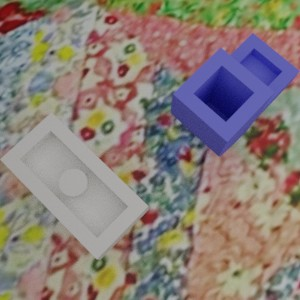lego: (0, 112, 148, 259), (170, 32, 300, 156)
